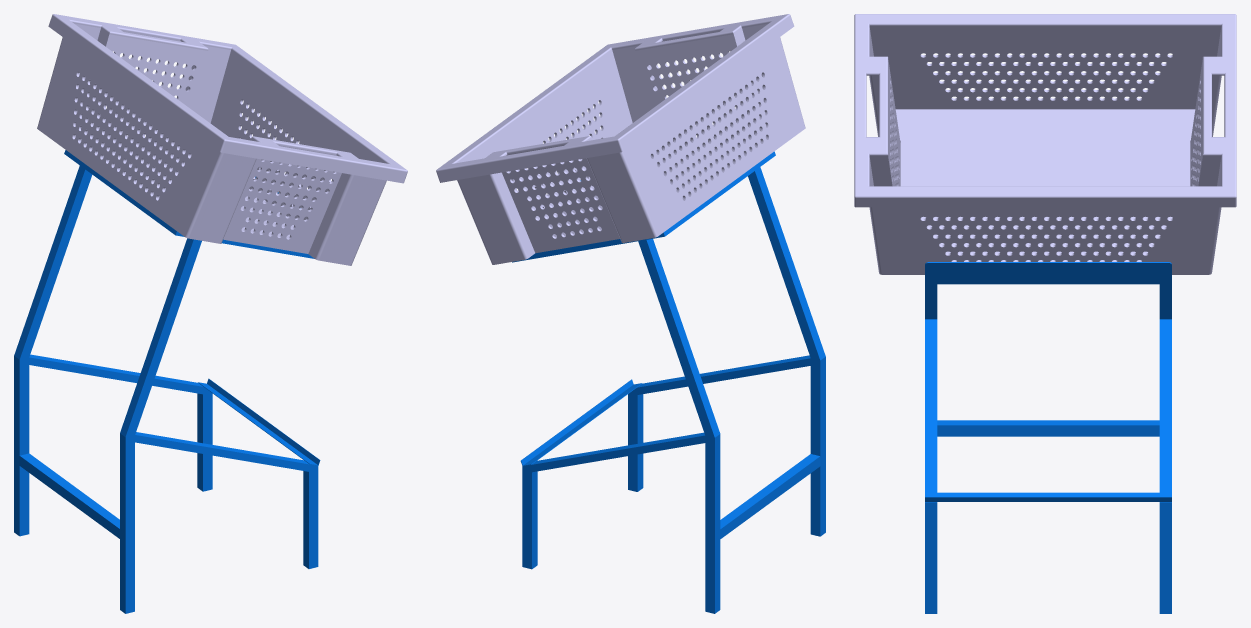
File: Basc_AssemblageFBX.fbx
3 renders of one model, left to right at view 1: azimuth 30°, elevation 25°; view 2: azimuth 150°, elevation 25°; view 3: azimuth 270°, elevation 25°, orthographic. The views are drawn at different scales.
Parts seen in each view (by area): view 1: bacs, support_bacs, support_bacs001; view 2: bacs, support_bacs, support_bacs001; view 3: bacs, support_bacs, support_bacs001.
Boxes of the visible parts, x1,y1,x2,y2 form: bacs: [37, 14, 407, 265]; support_bacs: [14, 150, 318, 613]; support_bacs001: [198, 378, 320, 465]; bacs: [436, 14, 805, 264]; support_bacs: [512, 151, 825, 613]; support_bacs001: [520, 379, 642, 466]; bacs: [854, 14, 1236, 274]; support_bacs: [925, 262, 1171, 613]; support_bacs001: [925, 492, 1171, 501].
Bounding box in the file's own units: 52.03 × 95.22 × 62.
